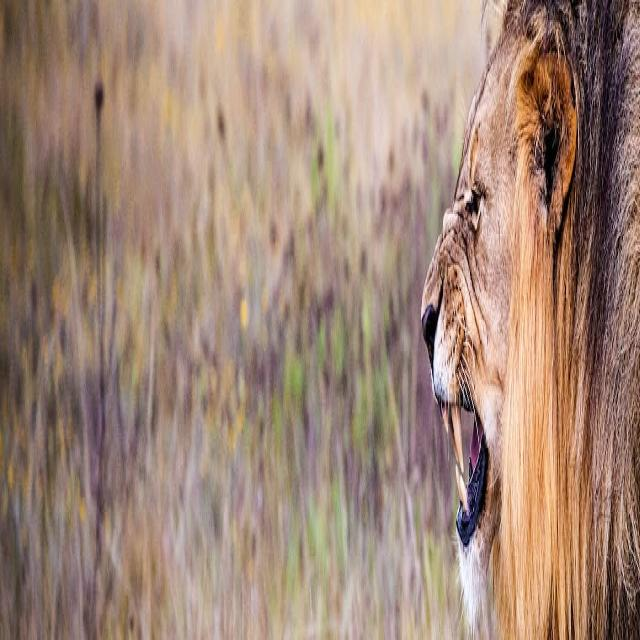Lion: (421, 0, 640, 638)
